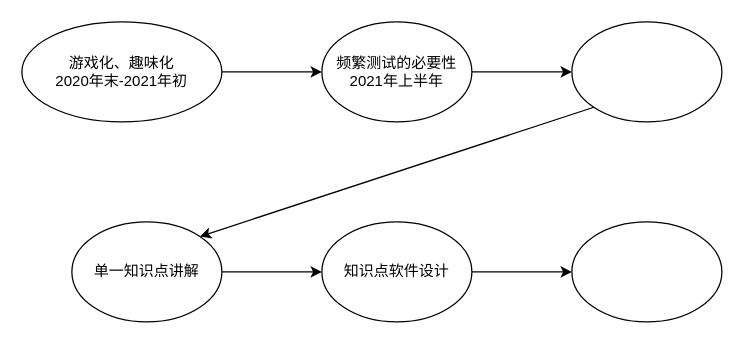
The diagram is 744 pixels wide and 344 high, and some of its shapes have lost their labels. The shapes that lost their labels are listed below. From the top down, each one's box as (x1, y1, x2, y2) in pixels, then its label:
(571, 21, 722, 122): 第一版文章 2021年7月
(571, 221, 722, 322): 结构化的完善
